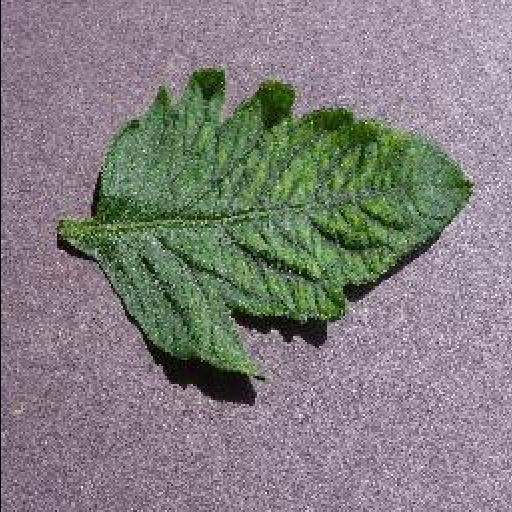Mosaic Virus: (88, 63, 474, 381)
